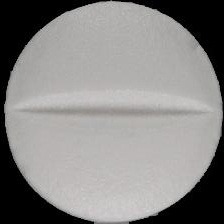55700-376: (0, 0, 224, 224)
